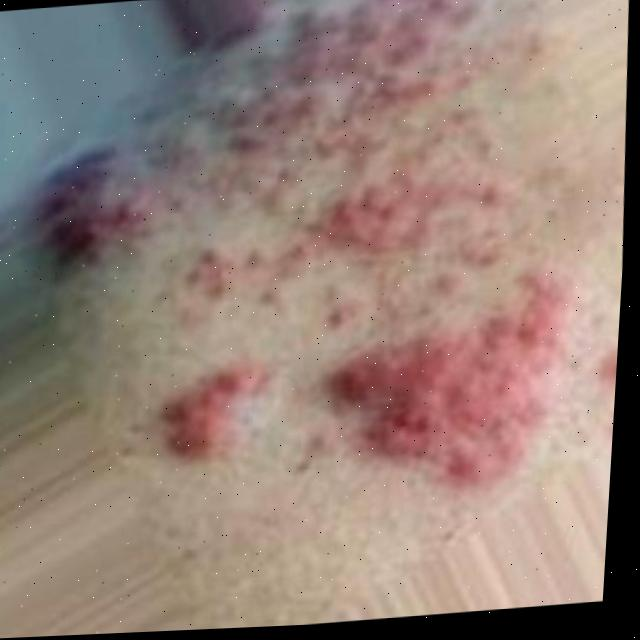Shingles: (22, 0, 640, 527)
